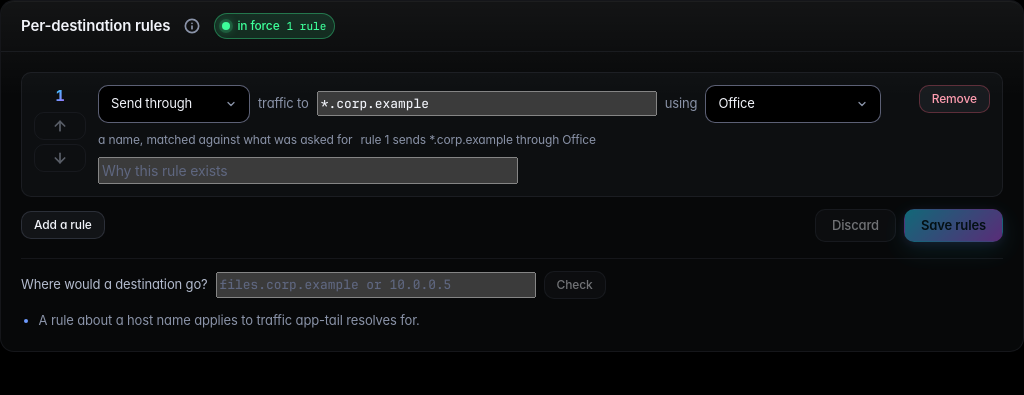
asking where a destination goes › names the rule that decided it
The width and height of the screenshot is (1024, 395).
Type "files.corp.example" into the field labelled "Where would a destination go?" at (376, 285), box [216,272,536,298]
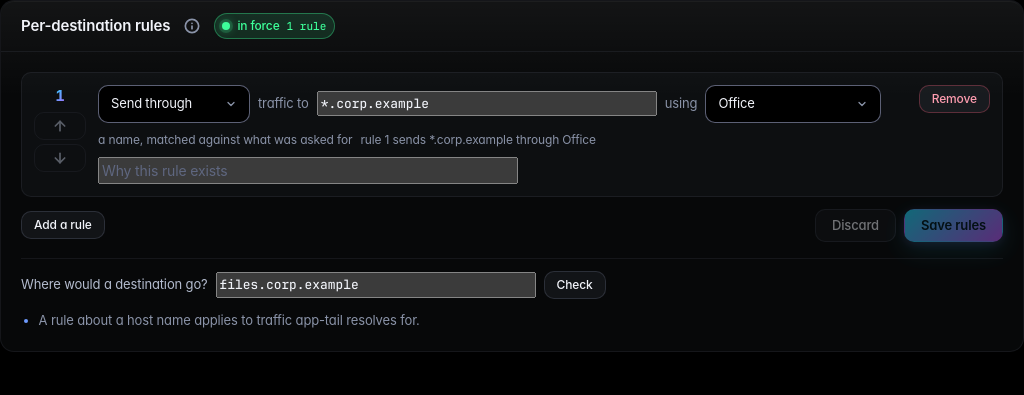
Click the button "Check" at (575, 285), box [544,271,606,299]
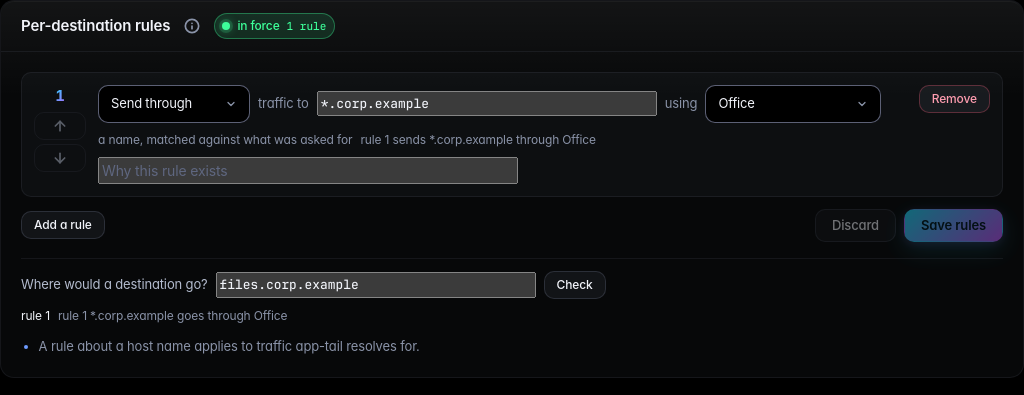
Result: the text "rule 1" is shown at [21,307,50,325]
Result: the text "rule 1 *.corp.example goes through Office" is shown at [58,307,287,325]
